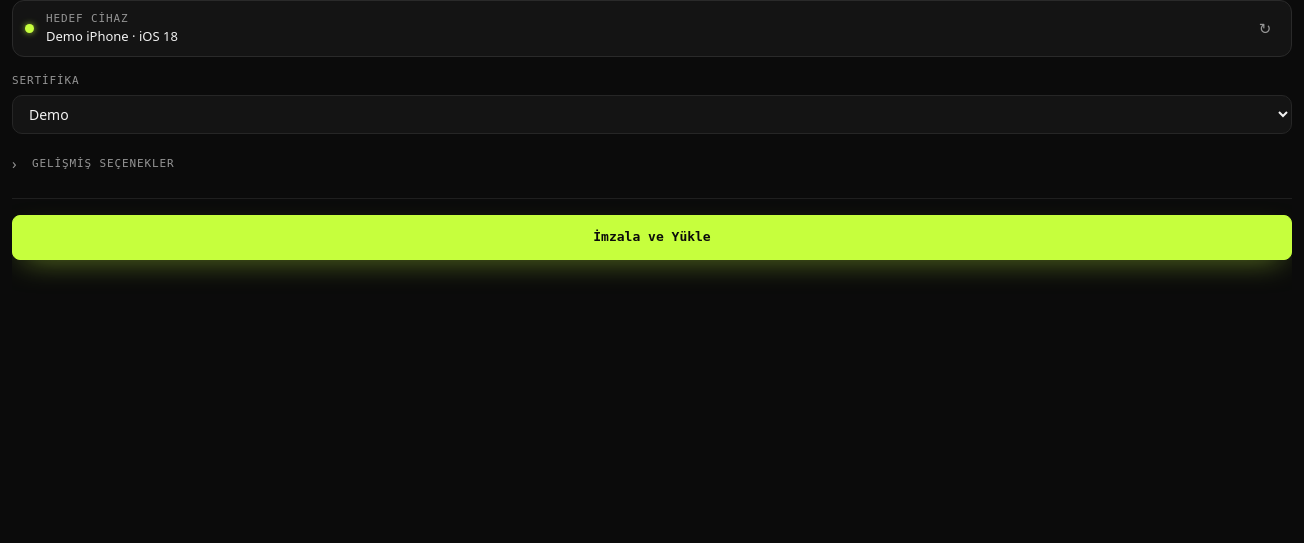
Test: a changed value stays and is marked when advanced options are collapsed
Check: the text "özelleştirildi" is not shown
Click the button "› Gelişmiş seçenekler" at point(103, 163), box [12,150,1292,178]
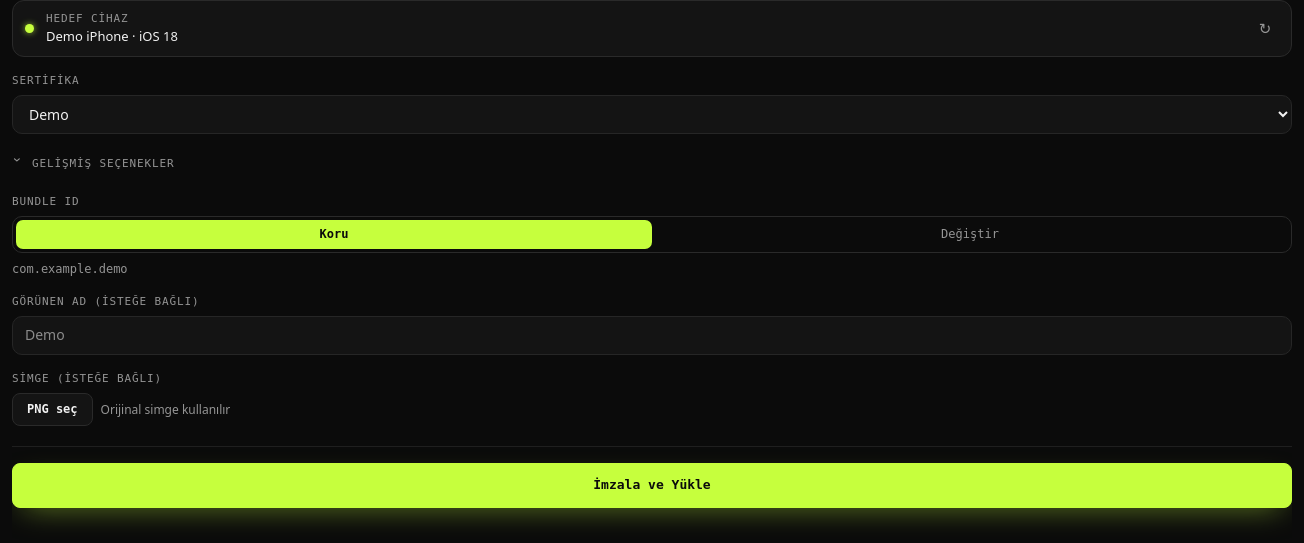
Type "Kendi Adım" into the field with placeholder "Demo" at point(652, 335), box [12,316,1292,355]
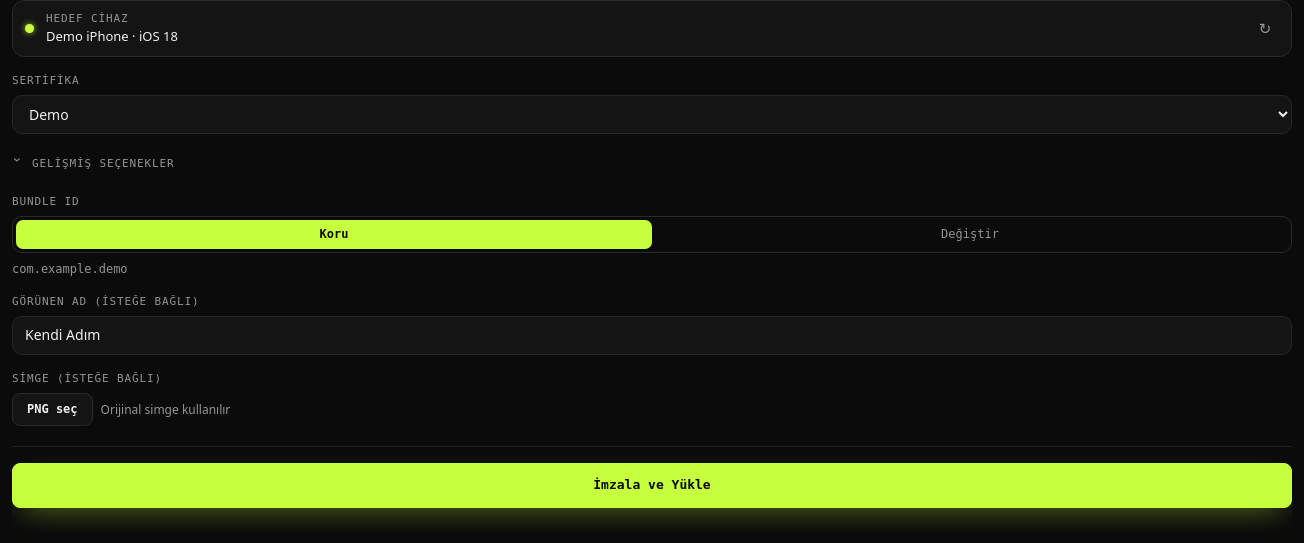
Click the button "› Gelişmiş seçenekler" at point(103, 163), box [12,150,1292,178]
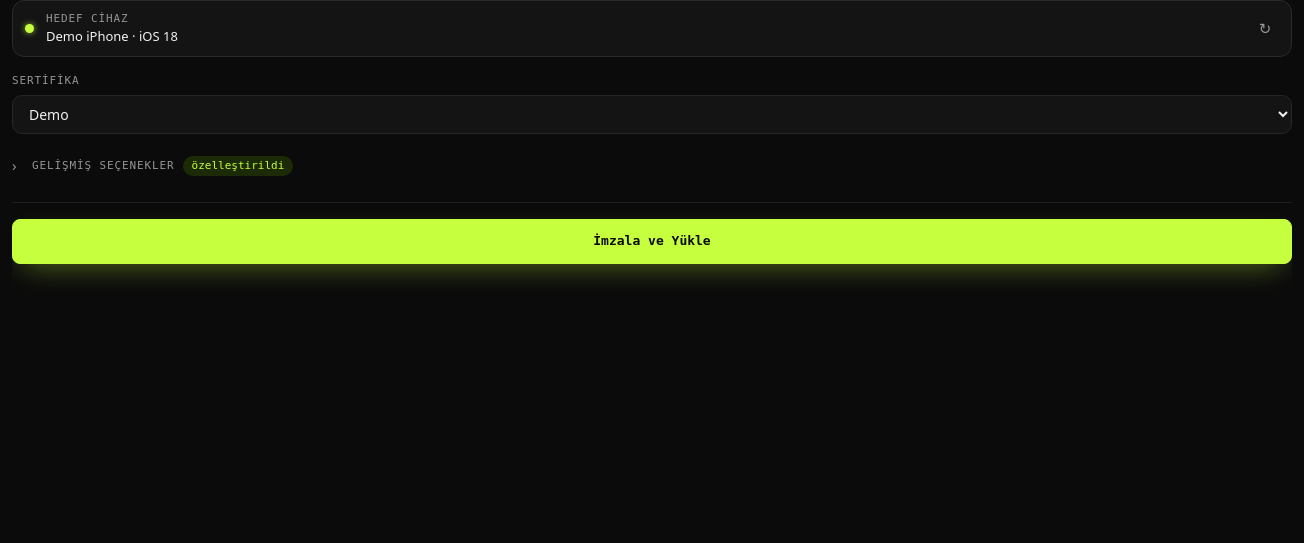
Check: the button "› Gelişmiş seçenekler özelleştirildi" is collapsed
Check: the button "› Gelişmiş seçenekler özelleştirildi" is shown
Click the button "› Gelişmiş seçenekler özelleştirildi" at point(103, 165), box [12,150,1292,182]
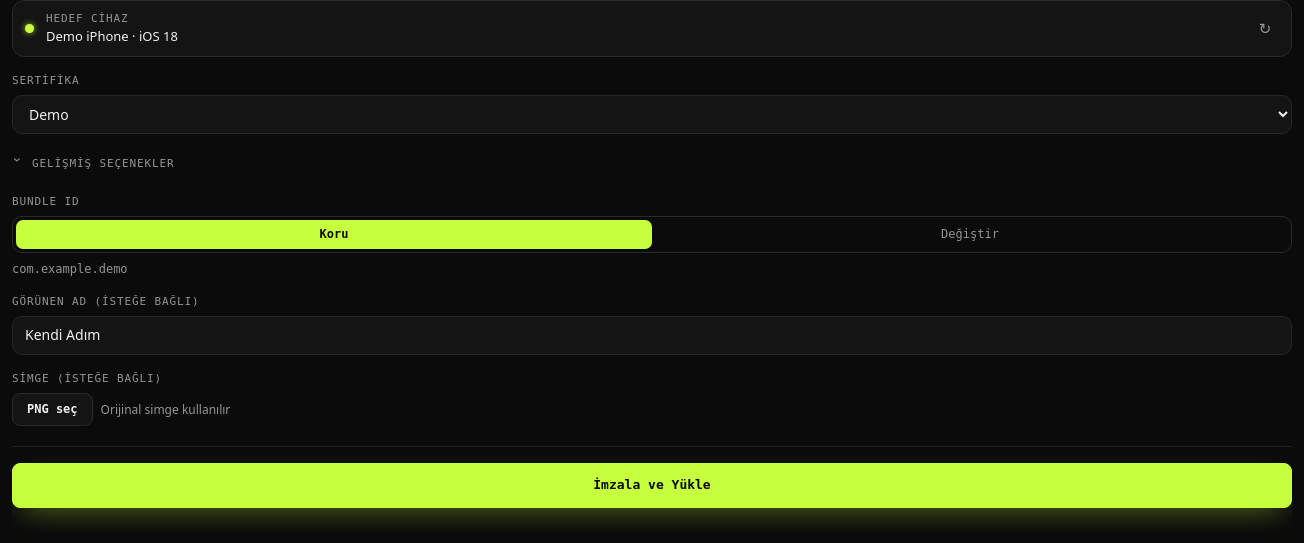
Check: the field with placeholder "Demo" holds "Kendi Adım", box [12,316,1292,355]
